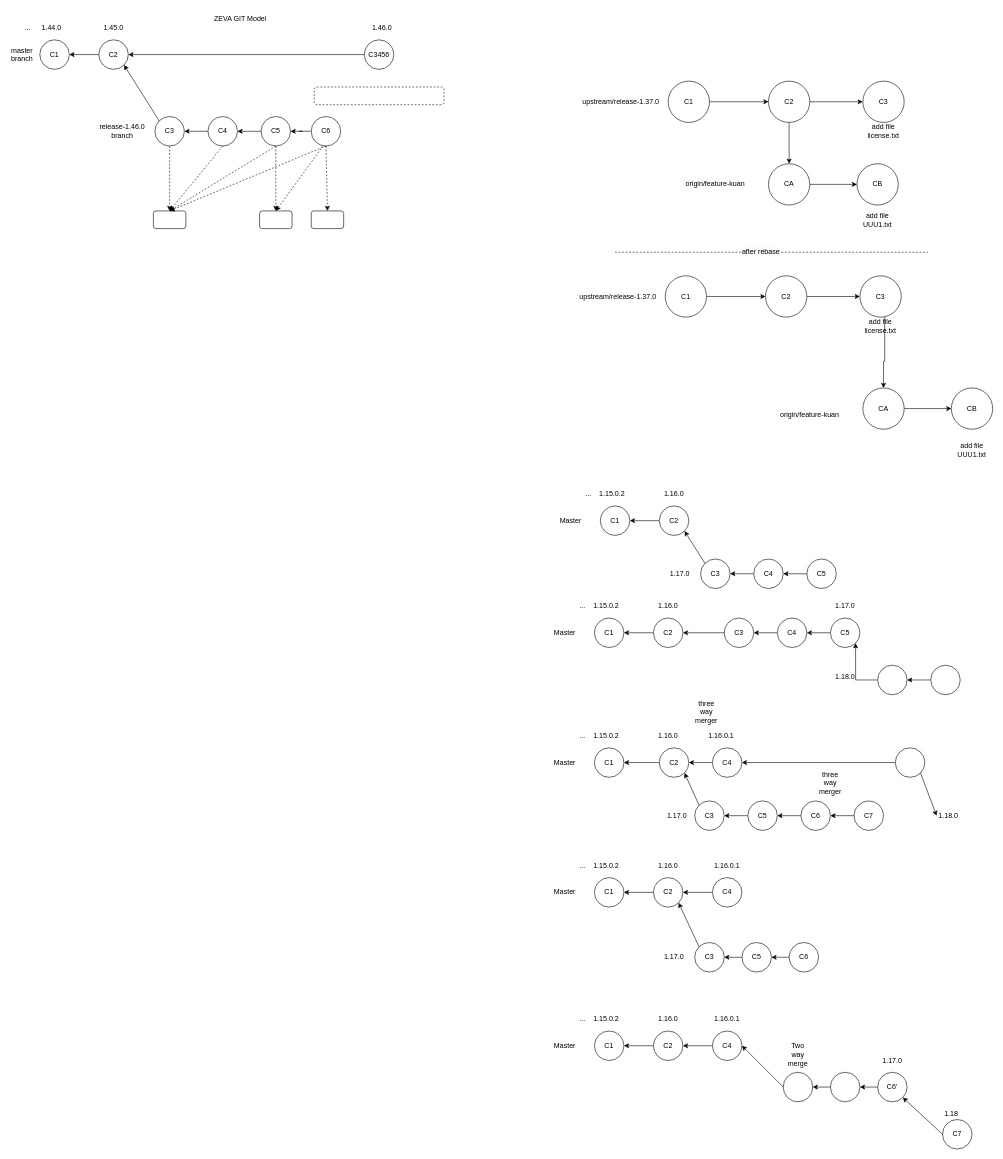
Some shapes in this 1003 by 1159 pixel diagram are drawn without their labels. Here are the shapes that lost their labels. From the top down, the centre of each, then its label:
point 379,95: PR#1248 release-1.46.0--> master: squash and merge
point 169,219: Dev
point 275,219: Test
point 327,219: Prod
point 910,762: C8
point 798,1087: C3'
point 845,1087: C5'
